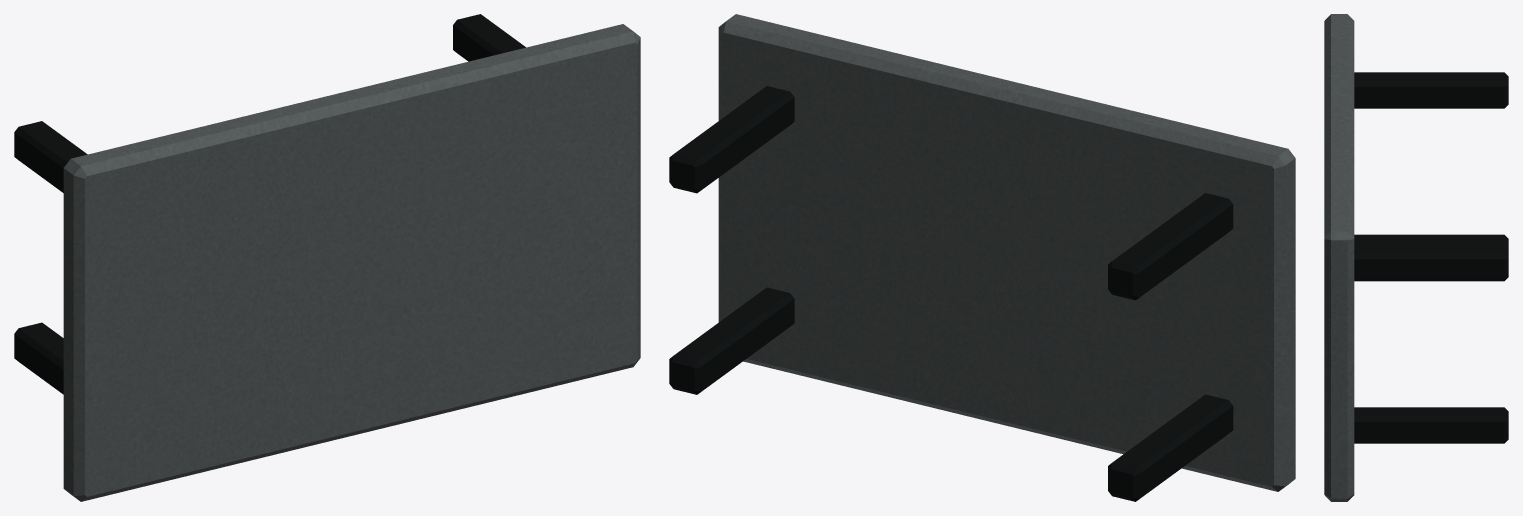
Rendered from terrace_table.obj.
3 views of the same model, side by side, from view 1: azimuth 30°, elevation 25°; view 2: azimuth 150°, elevation 25°; view 3: azimuth 270°, elevation 25° (orthographic). The views are drawn at different scales.
Visible parts, largest first — view 1: terrace_table_stone, terrace_table_frame; view 2: terrace_table_stone, terrace_table_frame; view 3: terrace_table_frame, terrace_table_stone.
Boxes of the visible parts, <box> form: terrace_table_stone: <box>63,24,640,501</box>; terrace_table_frame: <box>14,14,525,394</box>; terrace_table_stone: <box>718,14,1295,491</box>; terrace_table_frame: <box>669,86,1233,501</box>; terrace_table_frame: <box>1354,72,1508,443</box>; terrace_table_stone: <box>1324,14,1354,501</box>.
Size of the model in its own units: 53 by 30 by 18.5.
Materials: 2 (2 with a texture image).
